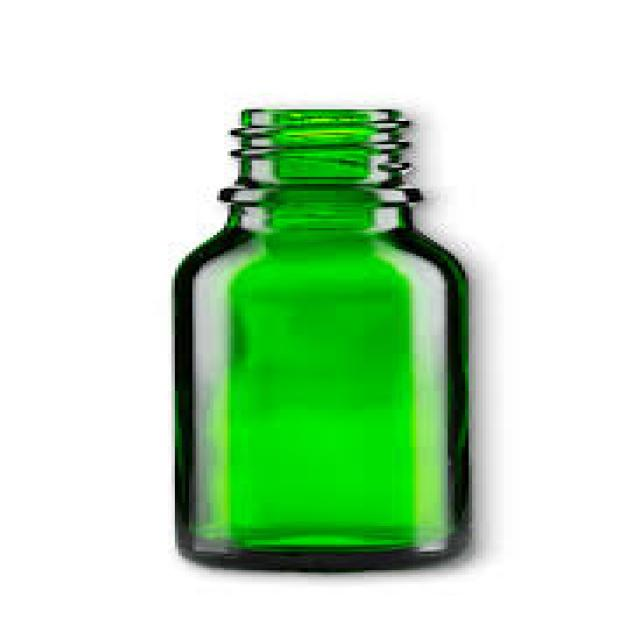glass: (178, 107, 469, 570)
